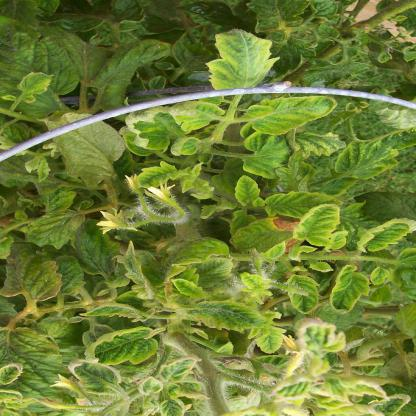tomato leaf yellow virus: (205, 25, 278, 105), (168, 298, 279, 338), (241, 96, 338, 137), (78, 326, 160, 373), (285, 202, 351, 257), (168, 253, 233, 293), (259, 192, 362, 217), (356, 210, 414, 254), (165, 96, 233, 131), (326, 263, 368, 316), (9, 71, 57, 115), (250, 314, 287, 358), (229, 173, 264, 215), (285, 273, 319, 316), (135, 165, 191, 190)
